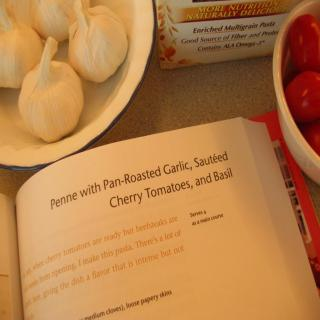tomato: (288, 66, 320, 124), (289, 13, 320, 70), (300, 115, 320, 155)
